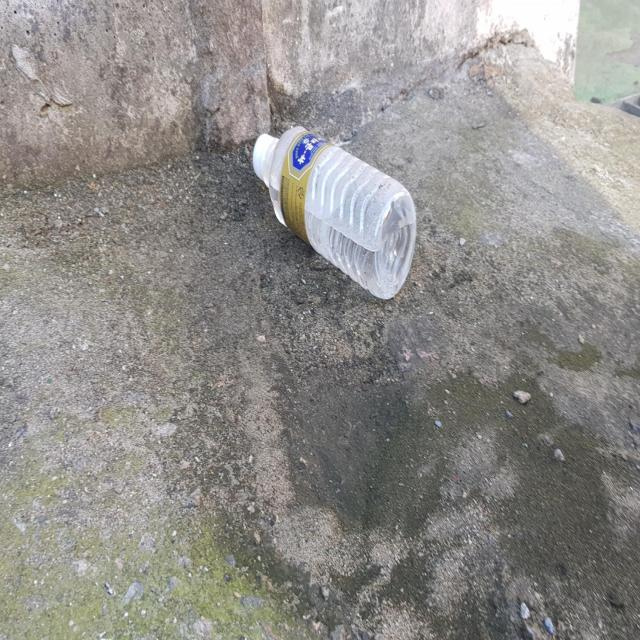plastic: (253, 125, 417, 298)
